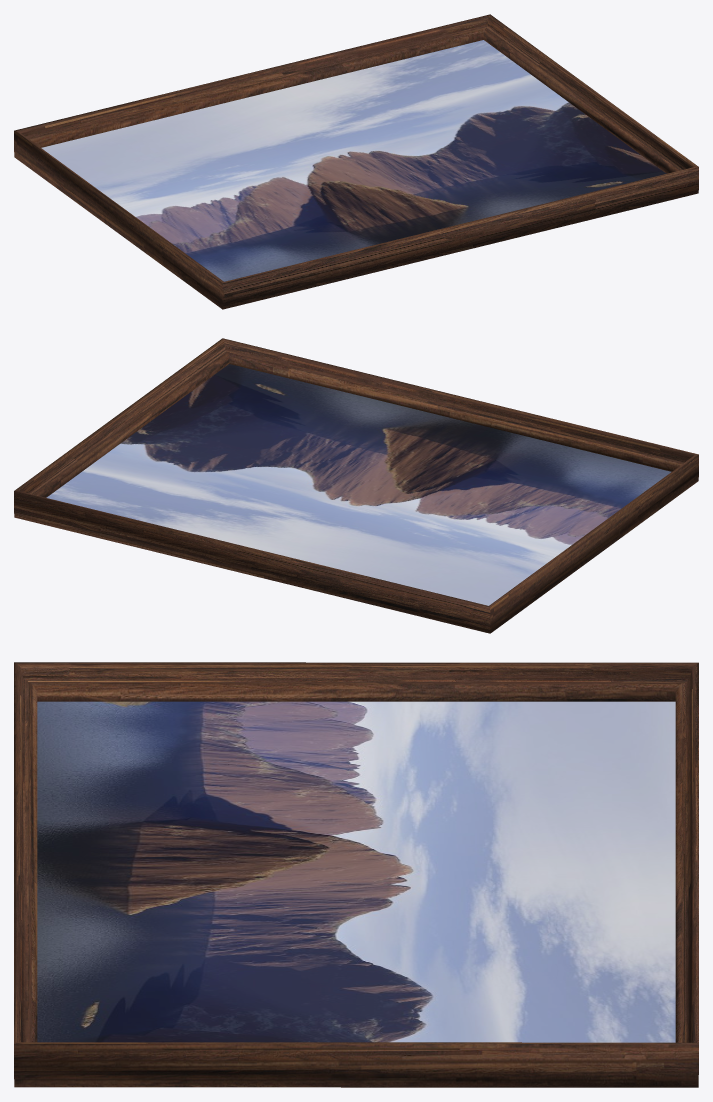
The model's file is fontcuberta.glb.
3 renders of one model, top to bottom at view 1: azimuth 30°, elevation 25°; view 2: azimuth 150°, elevation 25°; view 3: azimuth 270°, elevation 25°, orthographic. The views are drawn at different scales.
Parts seen in each view (by area): view 1: fontcuberta, BezierCircle; view 2: fontcuberta, BezierCircle; view 3: fontcuberta, BezierCircle.
Part boxes in pixels (bbox=[...]): fontcuberta: bbox=[41, 40, 666, 281]; BezierCircle: bbox=[14, 14, 698, 309]; fontcuberta: bbox=[46, 364, 671, 605]; BezierCircle: bbox=[14, 338, 698, 633]; fontcuberta: bbox=[37, 701, 675, 1042]; BezierCircle: bbox=[14, 662, 698, 1087].
Bounding box in the file's own units: 1.41 × 0.0757 × 1.07.
Materials: 2 (2 with a texture image).
